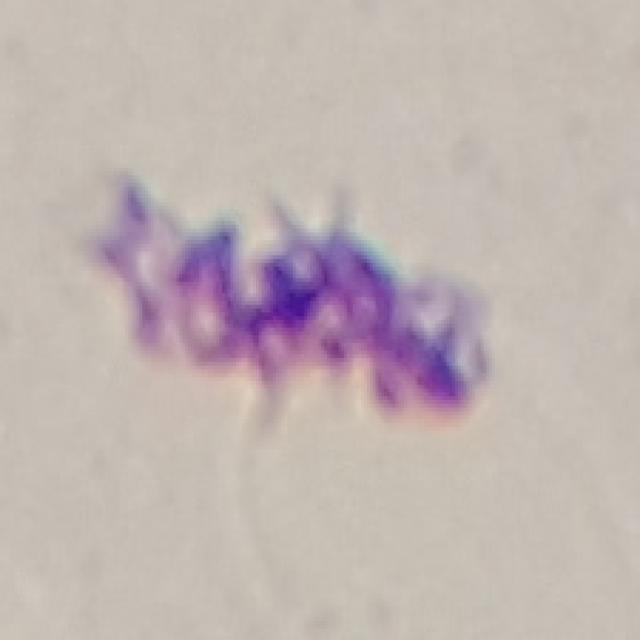non-sperm: (103, 182, 490, 424)
